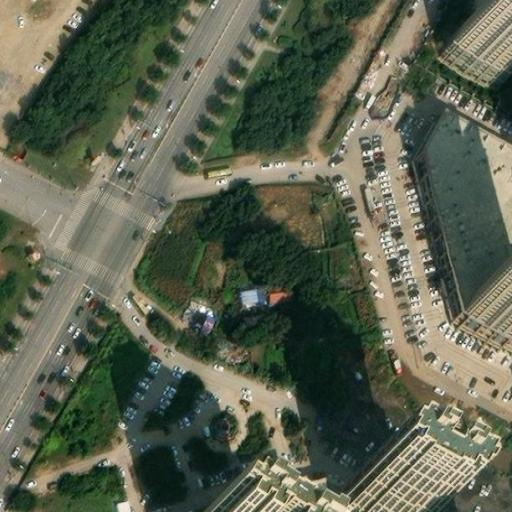building: (406, 106, 512, 312), (209, 469, 360, 512), (446, 277, 512, 348), (452, 0, 512, 70), (343, 473, 424, 512), (262, 279, 291, 304), (235, 284, 265, 307), (110, 496, 129, 512), (377, 497, 392, 509)
